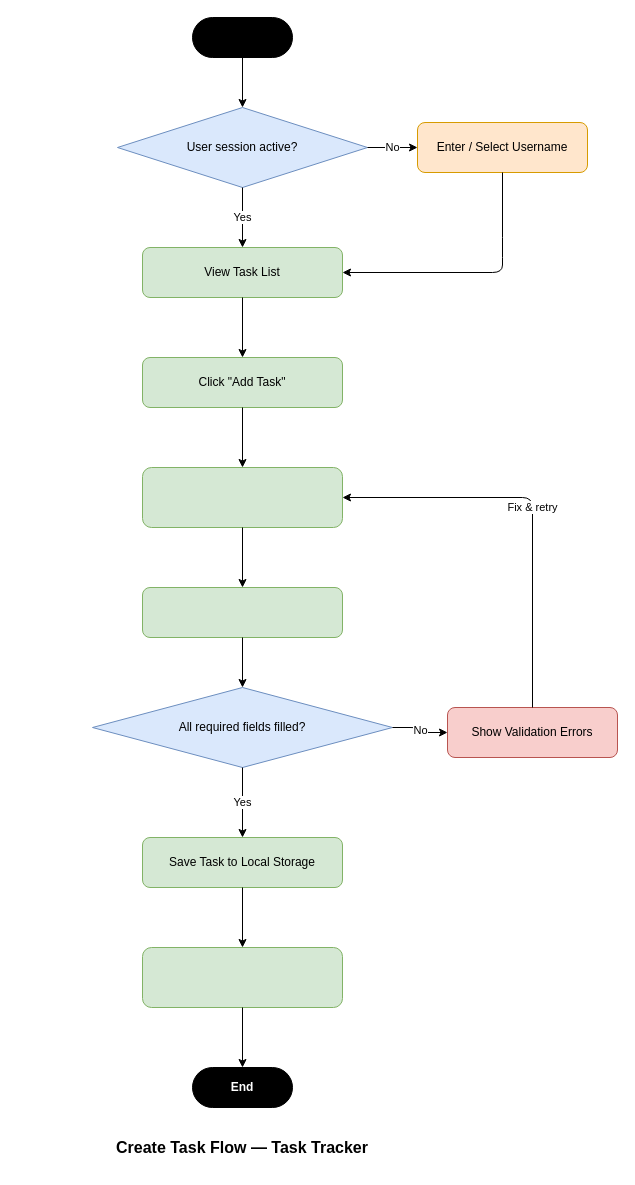
This 635x1185 diagram has some shape labels left out. The centre of each missing label's shape, as x and y in pixels:
"Click Submit" belongs at (x=242, y=612).
"Fill Form (Title*, Description*, Priority)" belongs at (x=242, y=497).
"Start" belongs at (x=242, y=37).
"Task Appears in List (sorted by Priority, then Status)" belongs at (x=242, y=977).
